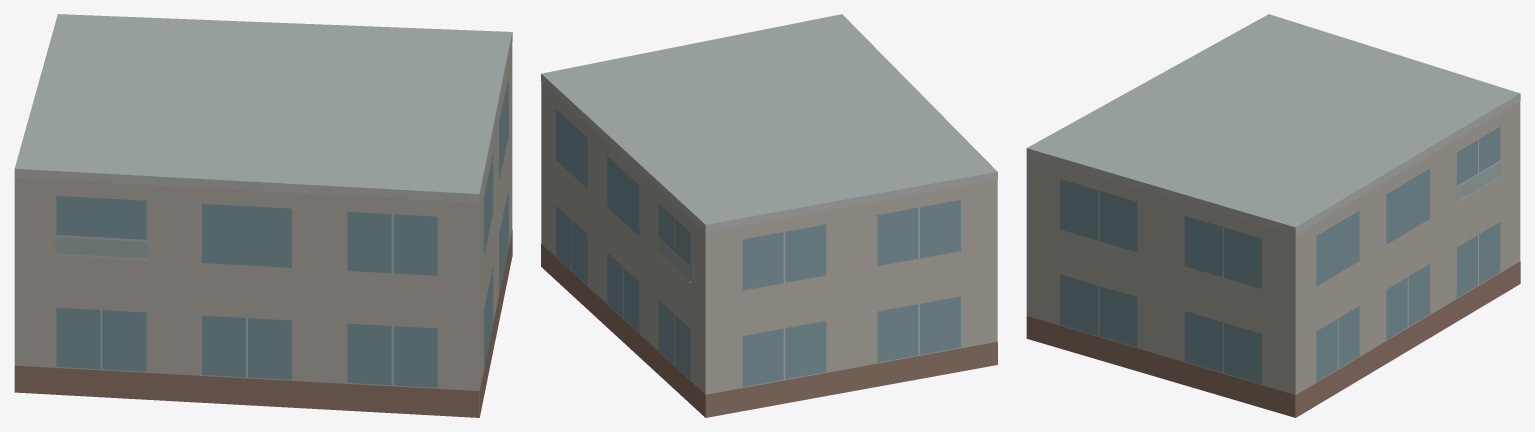
The model's file is survey-upis-32659441.glb.
3 renders of one model, left to right at view 1: azimuth 30°, elevation 25°; view 2: azimuth 150°, elevation 25°; view 3: azimuth 270°, elevation 25°, orthographic. The views are drawn at different scales.
Visible parts, largest first — view 1: survey-upis-32659441.tmp; view 2: survey-upis-32659441.tmp; view 3: survey-upis-32659441.tmp.
Part boxes in pixels (x1=…): survey-upis-32659441.tmp: x1=14, y1=14, x2=512, y2=417; survey-upis-32659441.tmp: x1=541, y1=14, x2=997, y2=417; survey-upis-32659441.tmp: x1=1026, y1=14, x2=1520, y2=417.
Bounding box in the file's own units: 14.66 × 6.1 × 14.34.
